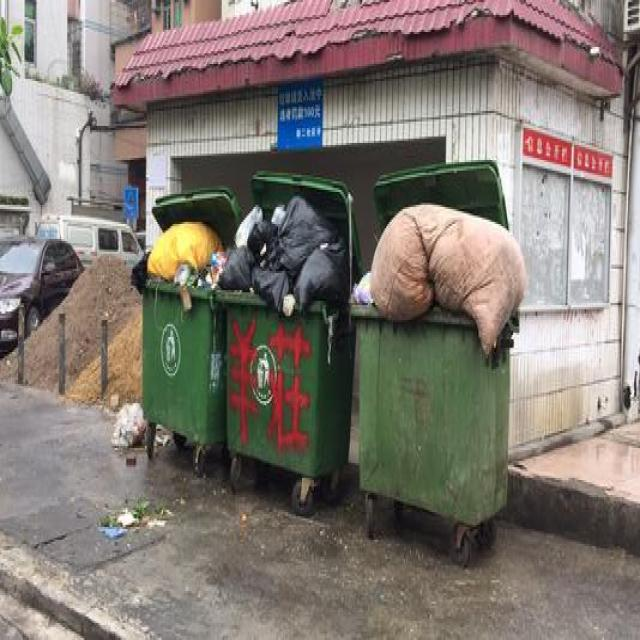garbage: (110, 397, 170, 463), (96, 492, 171, 538)
overflow: (348, 201, 522, 516), (216, 194, 350, 472), (128, 217, 224, 443)
